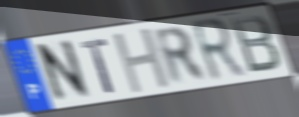B: (228, 13, 283, 76)
H: (110, 25, 174, 96)
N: (36, 37, 93, 107)
R: (188, 15, 250, 87), (150, 25, 211, 89)
T: (78, 37, 117, 95)
